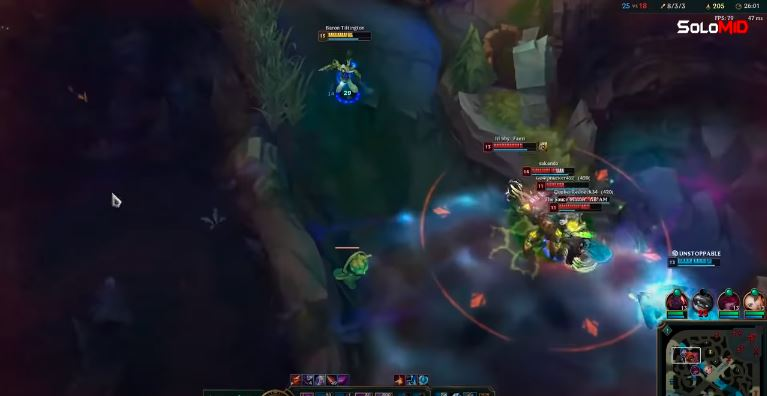bar: (535, 179, 597, 194), (315, 29, 377, 43), (481, 140, 542, 153), (667, 255, 722, 269), (549, 201, 608, 214), (521, 165, 577, 176)
